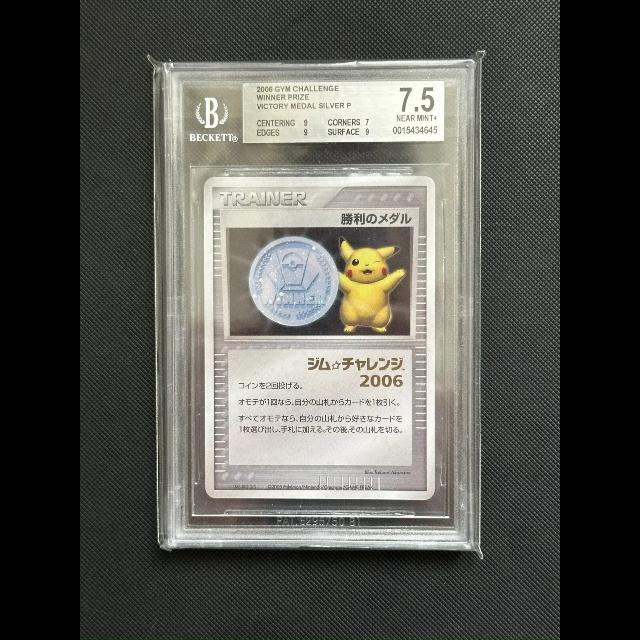bgs_label: (242, 81, 444, 144)
bgs_slab: (161, 58, 479, 551)
card: (203, 176, 435, 499)
